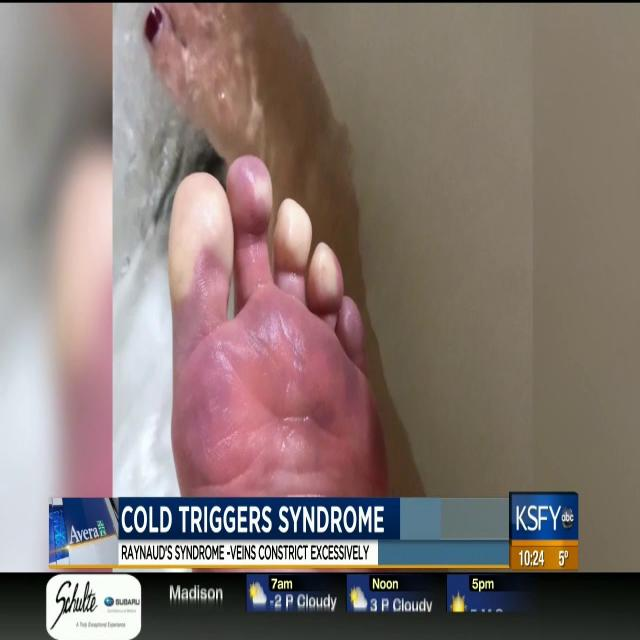raynauds: (160, 163, 233, 380), (276, 194, 347, 400), (224, 146, 278, 341)
